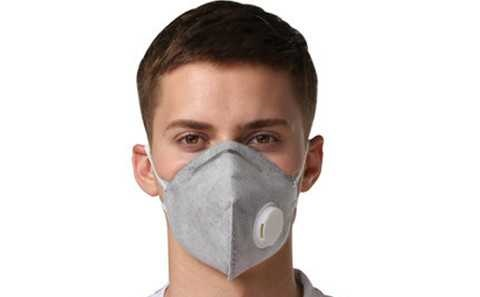face_mask: (156, 70, 302, 260)
